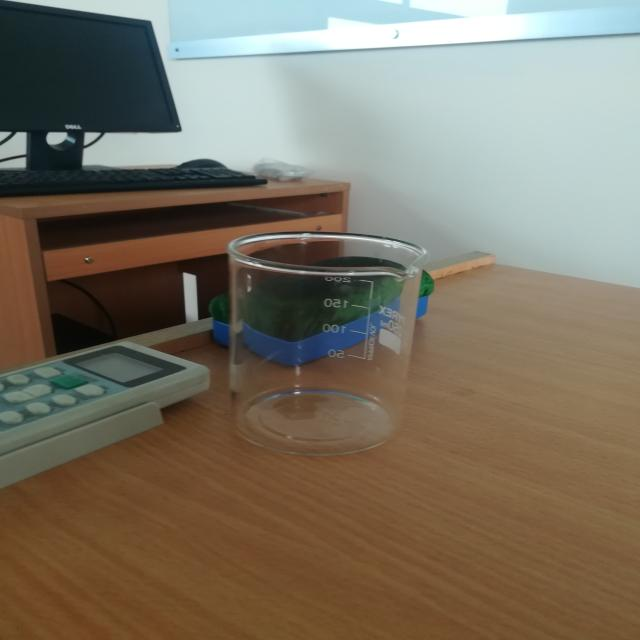Beaker: (194, 213, 464, 474)
